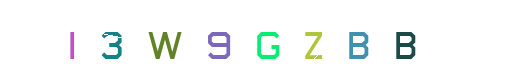3: (151, 0, 231, 80)
9: (215, 0, 295, 80)
B: (246, 0, 326, 80), (365, 0, 445, 80)
G: (222, 0, 302, 80)
I: (124, 0, 204, 80)
W: (186, 0, 266, 80)
Z: (227, 0, 307, 80)
